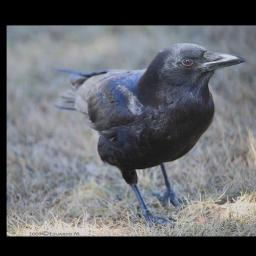Crow: (53, 42, 245, 226)
